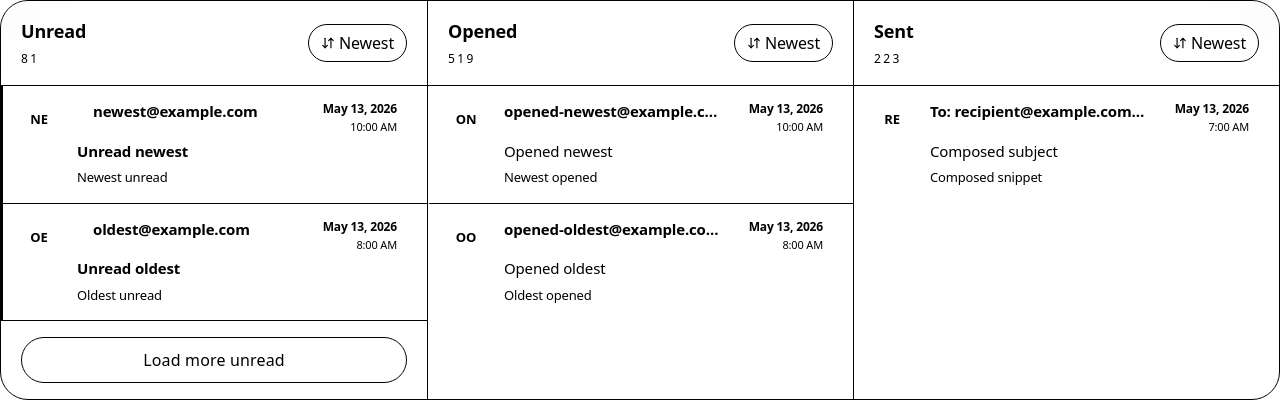
Test: MailColumnsBoard › sorts each column independently between newest and oldest
The width and height of the screenshot is (1280, 417).
Step 1. Click the button with test id "mail-column-sort-unread" → (358, 43), box [308,24,407,62]
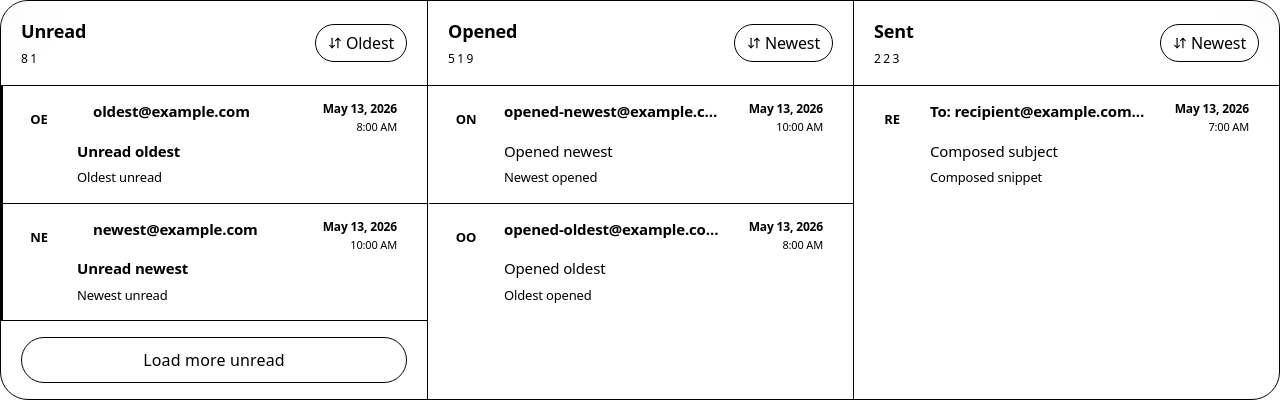
Expected: the button with test id "mail-column-sort-opened" reads "Newest", [734,24,833,62]
Now the button with test id "mail-column-sort-unread" reads "Oldest", box [315,24,407,62]
